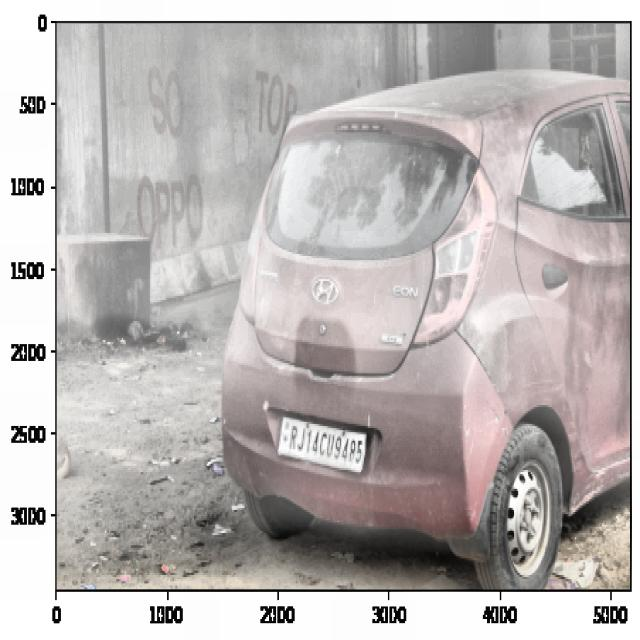license_plate: (284, 420, 365, 473)
